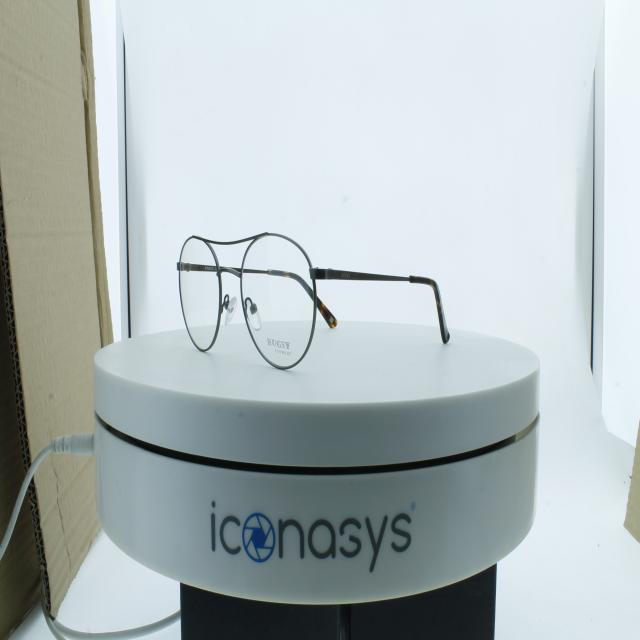Specs: (171, 200, 464, 382)
